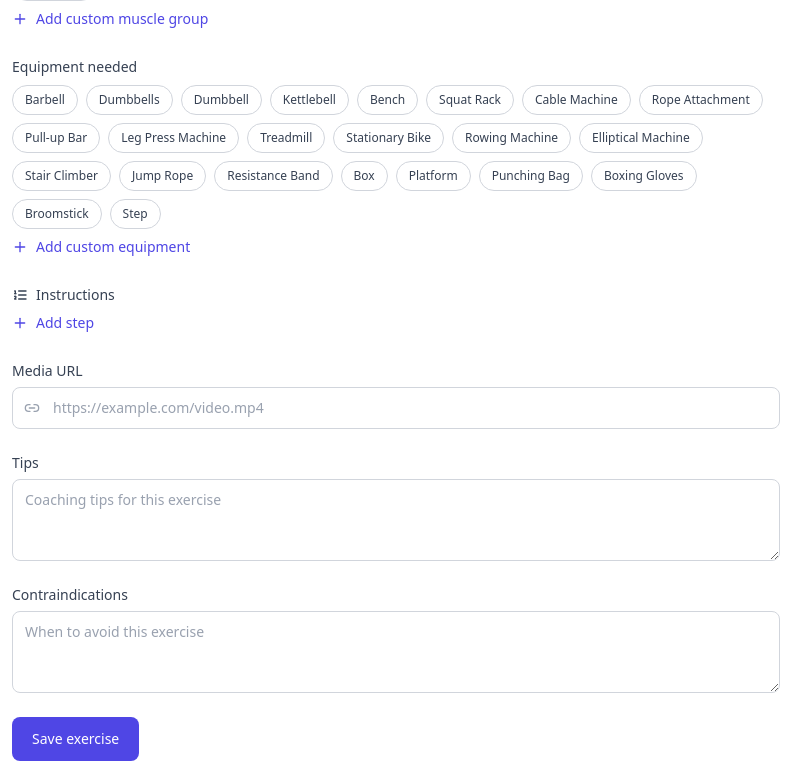
Test: ExerciseForm › shows validation errors when required fields are missing
(page scrolled)
Step 1. Click the button "Save exercise" → (76, 739), box x1=12 y1=717 x2=139 y2=760
(page scrolled)
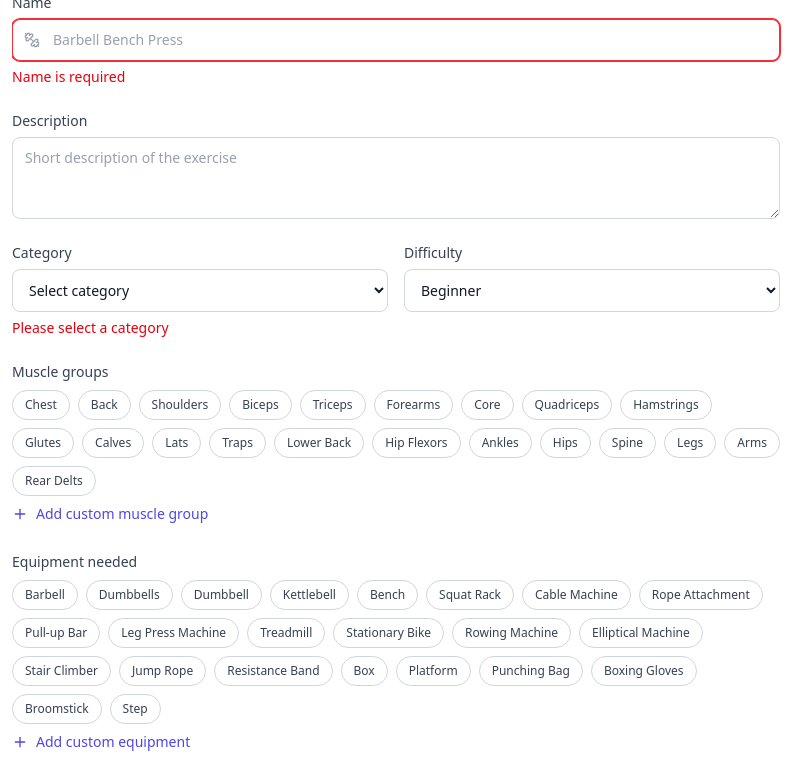
Expected: the text "Name is required" is shown, x1=12 y1=67 x2=125 y2=86
Expected: the text "Please select a category" is shown, x1=12 y1=318 x2=169 y2=337
